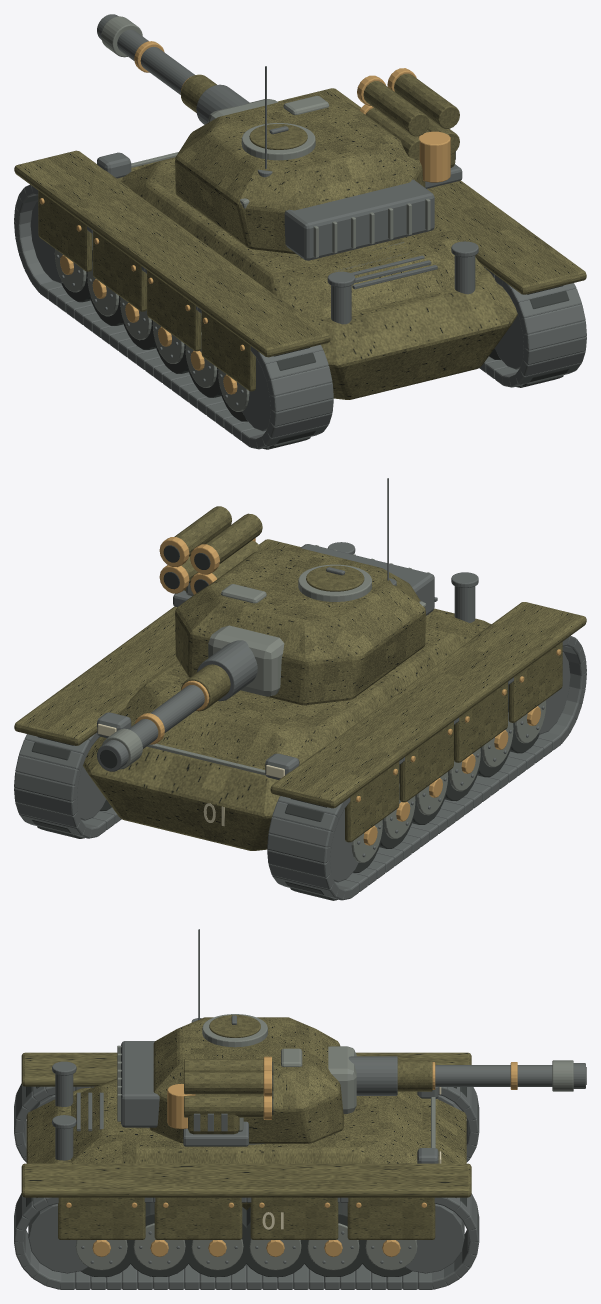
Rendered from StarterTank_A.fbx.
3 renders of one model, top to bottom at view 1: azimuth 30°, elevation 25°; view 2: azimuth 150°, elevation 25°; view 3: azimuth 270°, elevation 25°, orthographic. The views are drawn at different scales.
Parts seen in each view (by area): view 1: Hull_Armor, TurretYaw_Armor, Track_Left_Steel, TurretYaw_Steel, Track_Right_Steel, Attachment_Launcher_Armor, Hull_Steel, Track_Left_Edge, TurretYaw_Edge, BarrelRecoil_Steel, Track_Left_Rubber, Attachment_Repair_Brass (+5 smaller); view 2: Hull_Armor, TurretYaw_Armor, Track_Left_Steel, Track_Right_Steel, TurretYaw_Edge, BarrelRecoil_Steel, Track_Left_Edge, Attachment_Launcher_Armor, Track_Left_Rubber, Hull_Steel, TurretYaw_Steel, Attachment_Launcher_Brass (+8 smaller); view 3: Hull_Armor, Track_Right_Steel, TurretYaw_Armor, Track_Right_Edge, Attachment_Launcher_Armor, Track_Right_Rubber, BarrelRecoil_Steel, TurretYaw_Steel, TurretYaw_Edge, Hull_Steel, Track_Left_Steel, Track_Right_Brass (+6 smaller).
Part boxes in pixels (left/top/right/bottom): Hull_Armor: left=14, top=88, right=586, bottom=399; TurretYaw_Armor: left=175, top=96, right=425, bottom=254; Track_Left_Steel: left=14, top=184, right=333, bottom=449; TurretYaw_Steel: left=257, top=66, right=434, bottom=260; Track_Right_Steel: left=479, top=267, right=586, bottom=387; Attachment_Launcher_Armor: left=363, top=73, right=459, bottom=160; Hull_Steel: left=97, top=152, right=478, bottom=324; Track_Left_Edge: left=54, top=249, right=249, bottom=411; TurretYaw_Edge: left=208, top=95, right=430, bottom=257; BarrelRecoil_Steel: left=97, top=14, right=249, bottom=124; Track_Left_Rubber: left=61, top=233, right=315, bottom=449; Attachment_Repair_Brass: left=418, top=131, right=450, bottom=182; Hull_Armor: left=14, top=539, right=586, bottom=850; TurretYaw_Armor: left=175, top=547, right=425, bottom=705; Track_Left_Steel: left=267, top=636, right=586, bottom=900; Track_Right_Steel: left=14, top=733, right=121, bottom=838; TurretYaw_Edge: left=208, top=545, right=430, bottom=696; BarrelRecoil_Steel: left=97, top=640, right=257, bottom=771; Track_Left_Edge: left=351, top=700, right=546, bottom=862; Attachment_Launcher_Armor: left=174, top=506, right=262, bottom=582; Track_Left_Rubber: left=285, top=685, right=539, bottom=900; Hull_Steel: left=97, top=542, right=478, bottom=779; TurretYaw_Steel: left=300, top=478, right=434, bottom=615; Attachment_Launcher_Brass: left=159, top=537, right=219, bottom=594; Hull_Armor: left=21, top=1052, right=471, bottom=1239; Track_Right_Steel: left=14, top=1193, right=479, bottom=1289; TurretYaw_Armor: left=149, top=1015, right=343, bottom=1143; Track_Right_Edge: left=75, top=1223, right=417, bottom=1270; Attachment_Launcher_Armor: left=184, top=1059, right=263, bottom=1117; Track_Right_Rubber: left=26, top=1197, right=466, bottom=1277; BarrelRecoil_Steel: left=348, top=1056, right=585, bottom=1095; TurretYaw_Steel: left=121, top=929, right=264, bottom=1144; TurretYaw_Edge: left=117, top=1014, right=356, bottom=1121; Hull_Steel: left=52, top=1061, right=438, bottom=1163; Track_Left_Steel: left=14, top=1083, right=479, bottom=1162; Track_Right_Brass: left=92, top=1240, right=400, bottom=1256.
Size of the model in its own units: 432 by 391 by 751.
7 materials, 1 textured.
